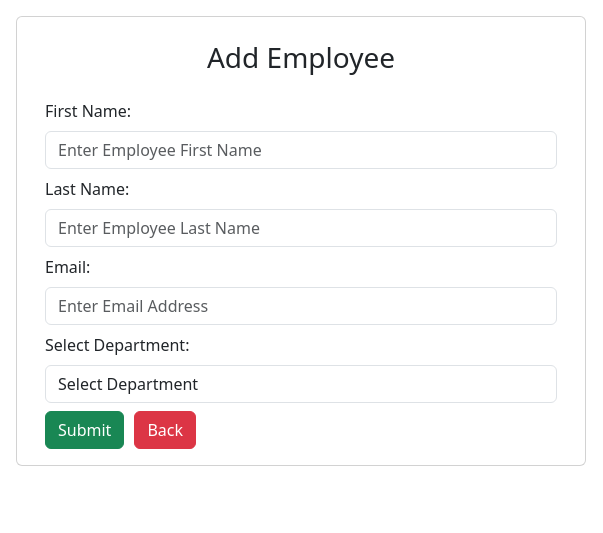
Test: EmployeeComponent › validates email format
In the field with placeholder "Enter Employee First Name": (301, 150) 45,131 -> 557,169, type "John"
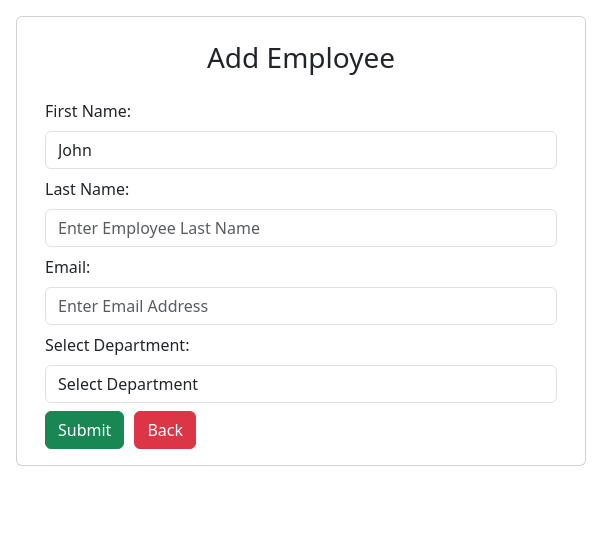
In the field with placeholder "Enter Employee Last Name": (301, 228) 45,209 -> 557,247, type "Doe"
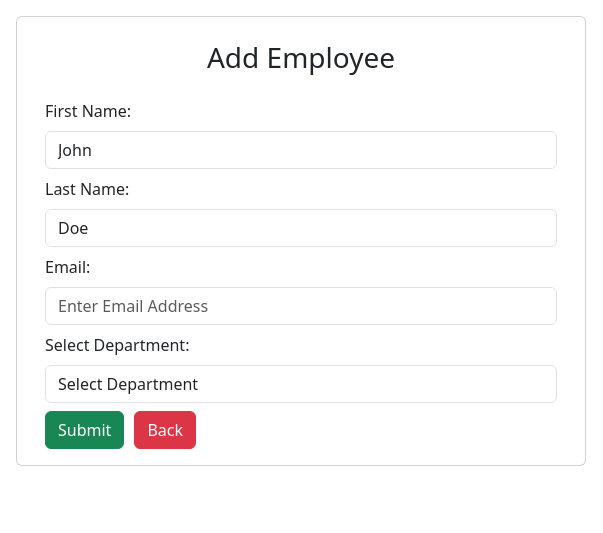
Click the button "Submit": click(85, 430) 45,411 -> 124,449
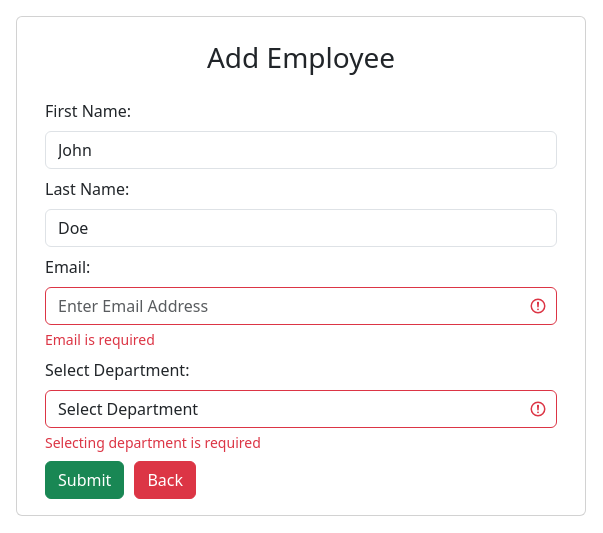
Now the text "Email is required" is shown, box 45,330 -> 155,349
